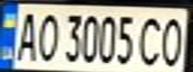0: (78, 10, 100, 64), (100, 10, 121, 65)
3: (60, 9, 84, 63)
5: (115, 11, 139, 65)
A: (9, 8, 42, 62)
C: (136, 12, 166, 68)
O: (154, 12, 190, 69), (33, 9, 60, 63)
